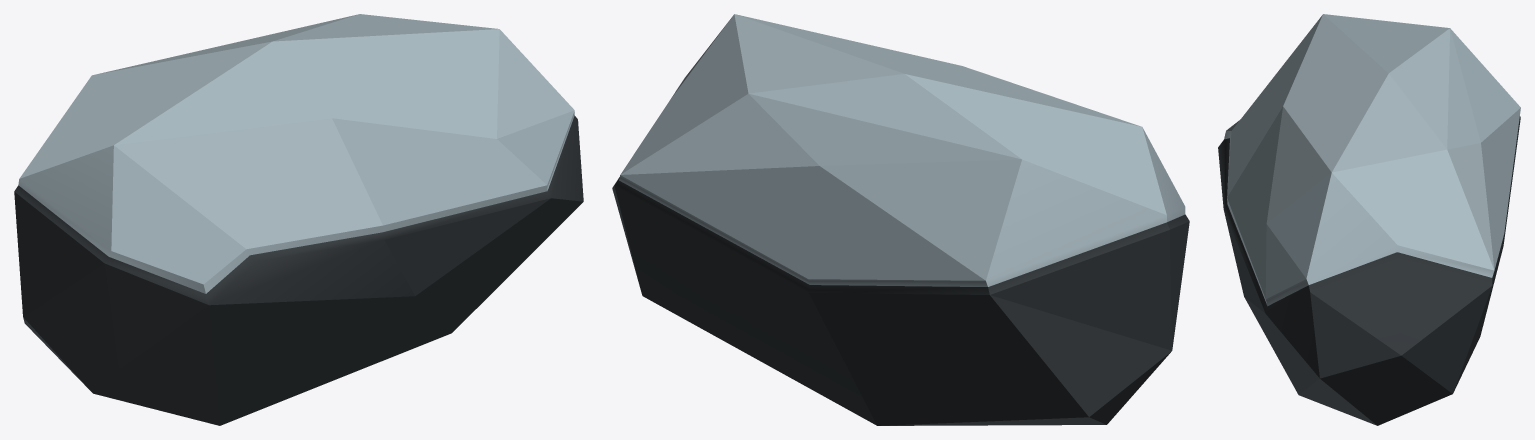
The model's file is Geo_StoneLarge.fbx.
The picture shows the model from 3 angles, left to right: view 1: azimuth 30°, elevation 25°; view 2: azimuth 150°, elevation 25°; view 3: azimuth 270°, elevation 25°; orthographic projection. The views are drawn at different scales.
Visible parts, largest first — view 1: StoneLarge_Mesh; view 2: StoneLarge_Mesh; view 3: StoneLarge_Mesh.
Part boxes in pixels (left/top/right/bottom): StoneLarge_Mesh: left=14, top=14, right=583, bottom=425; StoneLarge_Mesh: left=612, top=14, right=1189, bottom=425; StoneLarge_Mesh: left=1218, top=14, right=1520, bottom=425.
Size of the model in its own units: 756 by 452 by 405.
